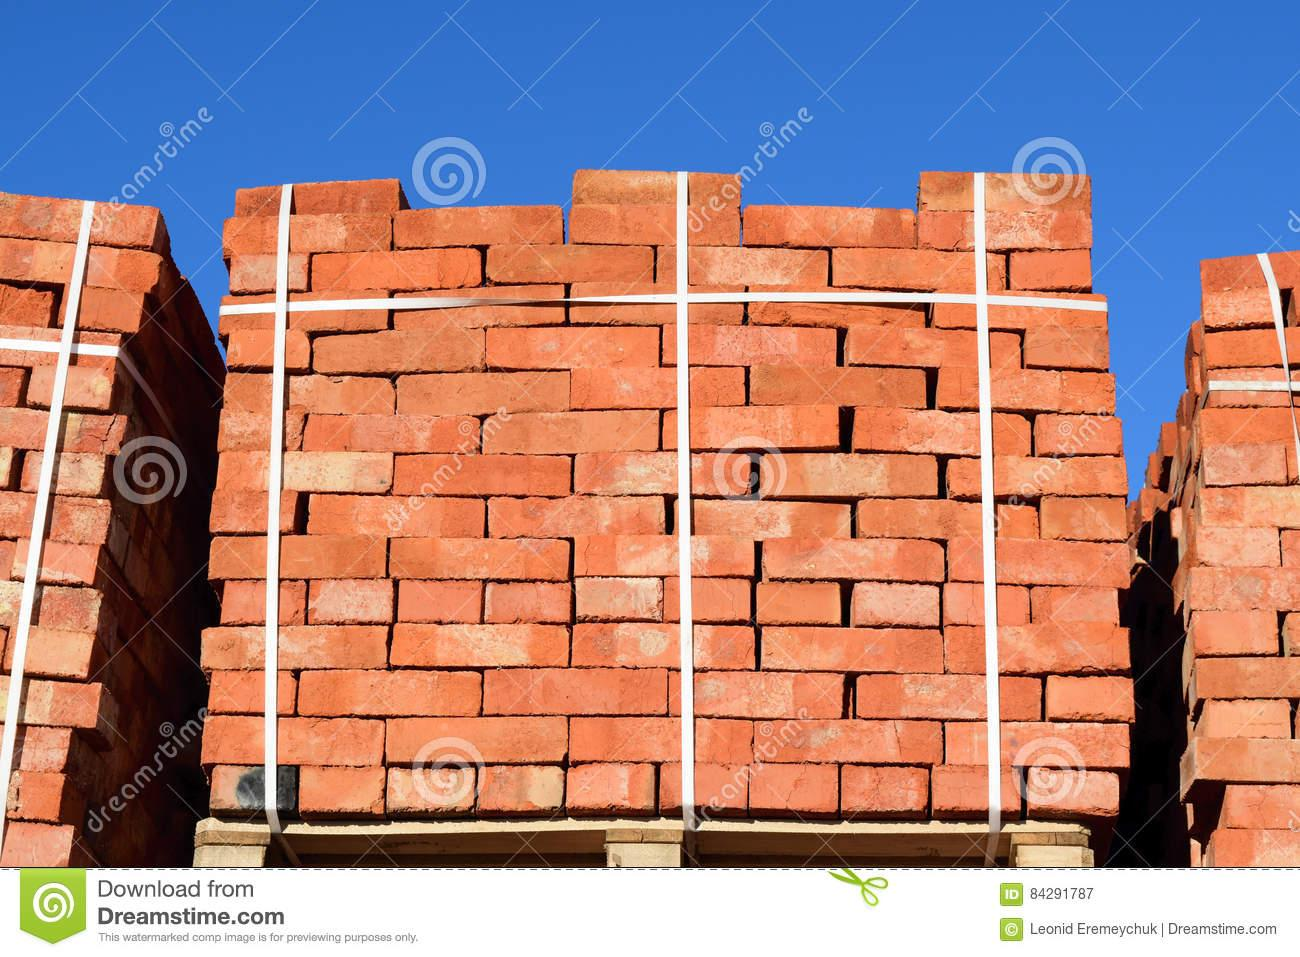brick: (948, 537, 1129, 588), (944, 626, 1129, 674), (201, 717, 384, 765), (0, 238, 162, 292), (0, 191, 159, 245), (853, 407, 1031, 455), (298, 669, 480, 716), (572, 623, 754, 669), (946, 722, 1129, 767), (936, 366, 1115, 413), (669, 671, 844, 719), (762, 536, 944, 581), (857, 675, 1041, 720), (569, 717, 753, 761), (208, 534, 387, 579), (761, 627, 940, 672), (753, 720, 943, 762), (386, 717, 566, 761), (574, 451, 750, 497), (483, 669, 667, 713), (663, 404, 838, 449), (760, 452, 938, 497), (201, 626, 387, 668), (391, 624, 568, 667), (748, 284, 925, 327), (749, 365, 926, 409), (482, 410, 659, 453), (308, 494, 484, 537), (313, 328, 484, 371), (489, 496, 664, 538), (390, 539, 569, 580), (574, 535, 753, 576), (486, 327, 660, 369), (219, 290, 388, 333), (394, 454, 570, 496), (947, 455, 1127, 496), (744, 205, 915, 247), (393, 204, 563, 246), (394, 286, 564, 328), (849, 326, 1019, 368), (917, 170, 1092, 211), (571, 366, 745, 408), (312, 247, 480, 290), (833, 248, 1005, 290), (397, 371, 569, 413), (223, 373, 395, 414), (859, 500, 1039, 539), (569, 205, 739, 246), (303, 414, 479, 453), (570, 285, 745, 324), (935, 290, 1108, 329), (222, 212, 391, 252), (663, 325, 836, 364), (216, 453, 393, 492), (486, 244, 654, 284), (657, 246, 828, 284), (694, 500, 852, 539), (916, 212, 1091, 247), (573, 170, 741, 206), (0, 407, 127, 454), (1, 491, 111, 544), (234, 178, 399, 211), (0, 579, 102, 633), (0, 325, 120, 368), (0, 675, 101, 727), (3, 624, 95, 676), (1190, 566, 1300, 610), (1195, 737, 1300, 781), (58, 282, 143, 333), (1027, 766, 1118, 815), (750, 763, 839, 812), (1200, 486, 1300, 528), (12, 538, 100, 586), (1047, 675, 1134, 723), (660, 762, 747, 810), (1196, 657, 1300, 697), (933, 764, 1021, 810), (566, 763, 654, 809), (841, 765, 929, 811), (943, 581, 1031, 626), (1204, 327, 1300, 367), (387, 768, 475, 812), (221, 580, 306, 626), (1200, 250, 1300, 289), (853, 581, 939, 626), (300, 766, 384, 812), (1192, 610, 1279, 653), (20, 451, 106, 495), (1041, 496, 1126, 539), (576, 577, 662, 621), (208, 670, 296, 713), (209, 766, 296, 809), (476, 766, 562, 809), (309, 579, 393, 623), (27, 367, 115, 409), (209, 491, 297, 532), (665, 577, 750, 620), (217, 410, 304, 451), (757, 581, 841, 624), (1204, 699, 1291, 739), (1203, 443, 1287, 485), (484, 582, 570, 623), (1035, 414, 1122, 453), (399, 581, 481, 623), (1010, 248, 1092, 290), (1023, 328, 1109, 367), (1195, 527, 1281, 566), (1033, 587, 1118, 626), (1214, 828, 1300, 867), (1, 822, 75, 867), (1200, 409, 1300, 442), (1225, 784, 1300, 829), (227, 329, 310, 368), (1208, 368, 1292, 406), (230, 252, 309, 291), (1201, 288, 1275, 326), (6, 772, 66, 820), (11, 728, 72, 772), (0, 284, 53, 327)
